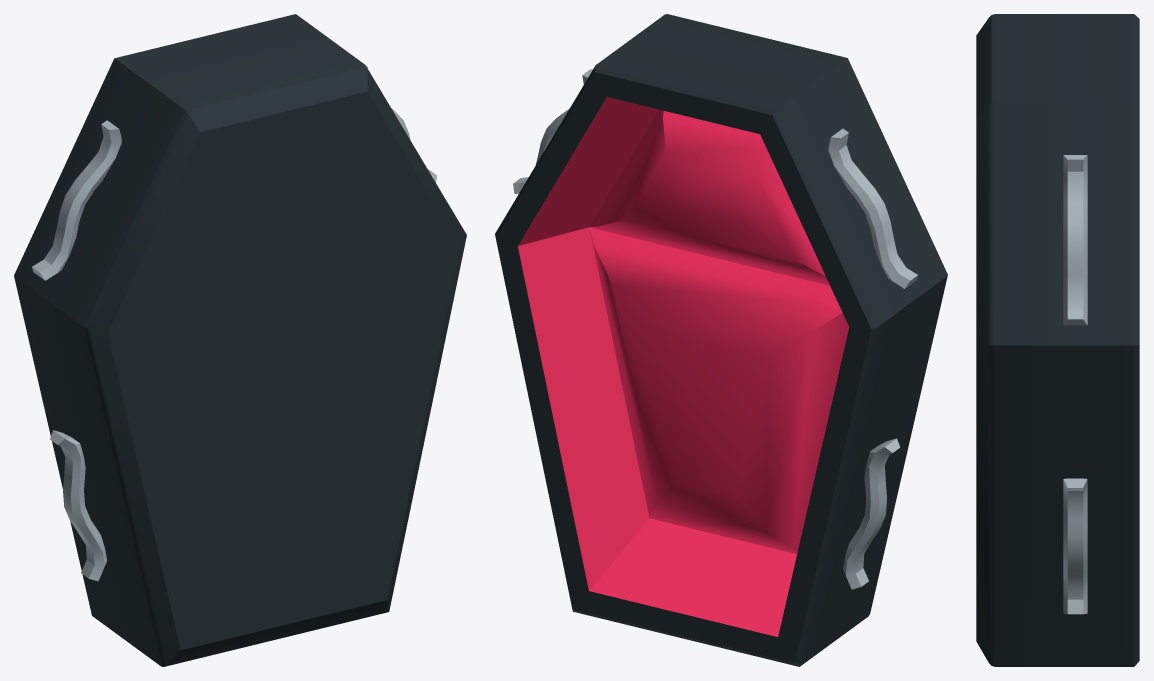
The model's file is coffinB_bottom.fbx.
3 renders of one model, left to right at view 1: azimuth 30°, elevation 25°; view 2: azimuth 150°, elevation 25°; view 3: azimuth 270°, elevation 25°, orthographic.
Parts seen in each view (by area): view 1: coffinB_bottom; view 2: coffinB_bottom; view 3: coffinB_bottom.
Boxes of the visible parts, x1,y1,x2,y2 form: coffinB_bottom: (14,14,466,666); coffinB_bottom: (495,14,947,666); coffinB_bottom: (976,14,1139,666).
Size of the model in its own units: 1.51 by 0.5355 by 2.
